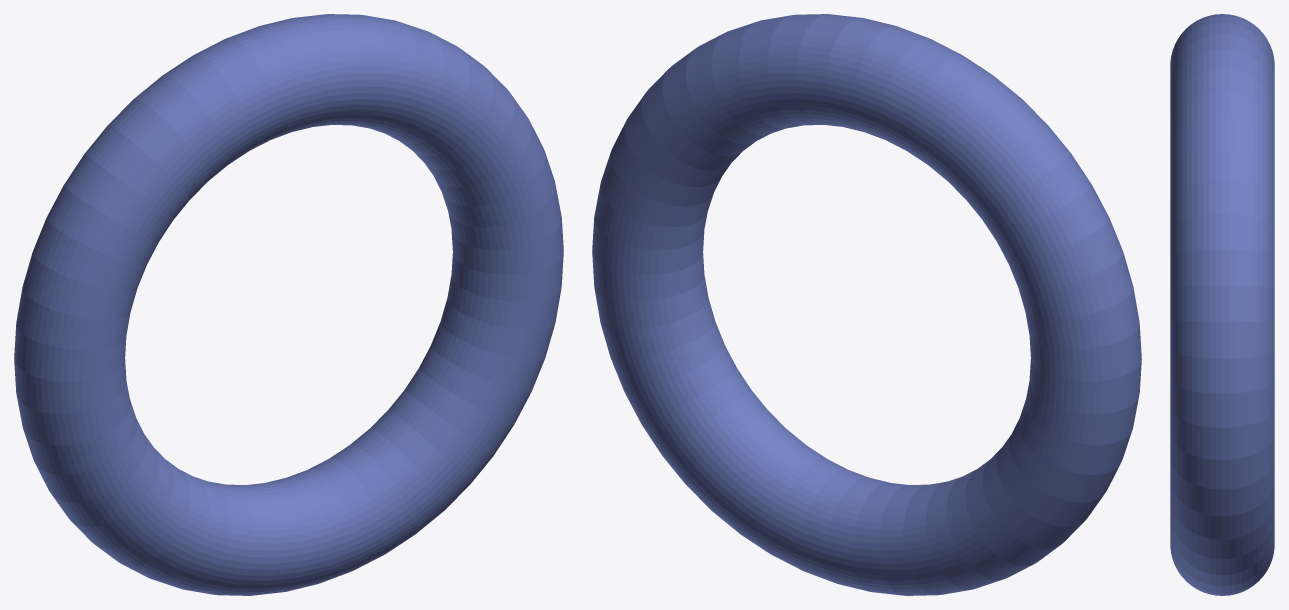
3 views of the same model, side by side, from view 1: azimuth 30°, elevation 25°; view 2: azimuth 150°, elevation 25°; view 3: azimuth 270°, elevation 25° (orthographic). The views are drawn at different scales.
Parts seen in each view (by area): view 1: world; view 2: world; view 3: world.
Boxes of the visible parts, x1,y1,x2,y2 form: world: [14, 14, 563, 595]; world: [592, 14, 1141, 595]; world: [1170, 14, 1274, 595].
Size of the model in its own units: 17.07 by 17.03 by 3.06.
